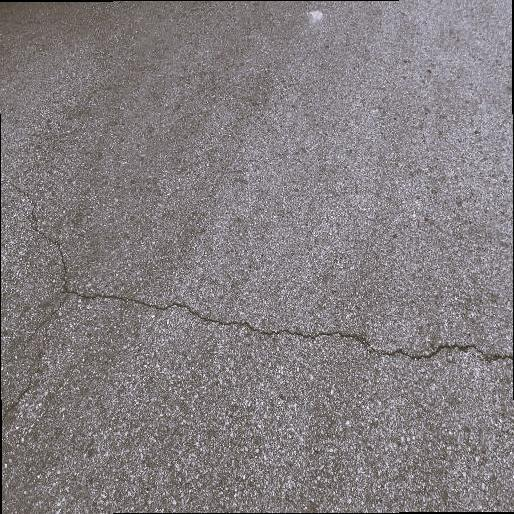Melintang: (56, 275, 514, 375)
